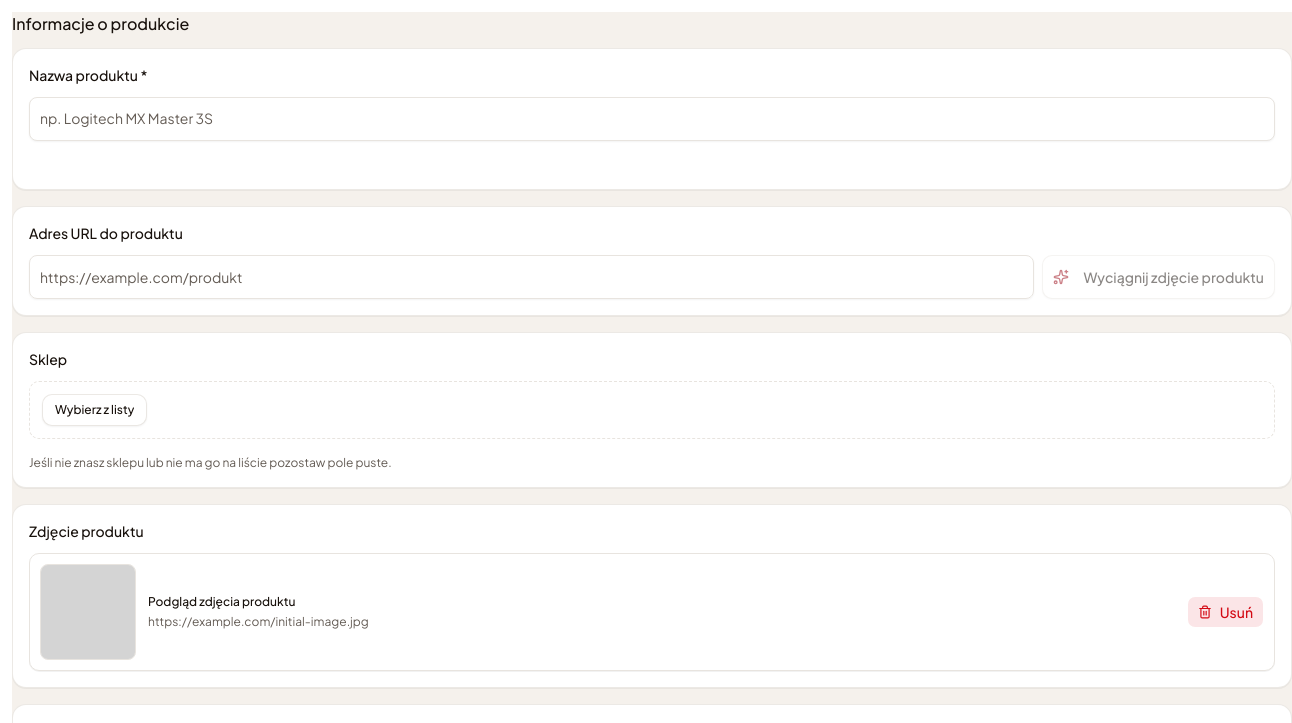
Test: app/opinie/dodaj/_components/ProductFields › allows removing the image via the 'Usuń' button in the preview
The image size is (1292, 723).
expect the field labelled "Adres URL zdjęcia" is not shown: met
expect the text "Podgląd zdjęcia produktu" is shown: met, box [148,594,295,609]
Step 1. Click the button "Usuń" → (1225, 612), box [1187,596,1264,628]
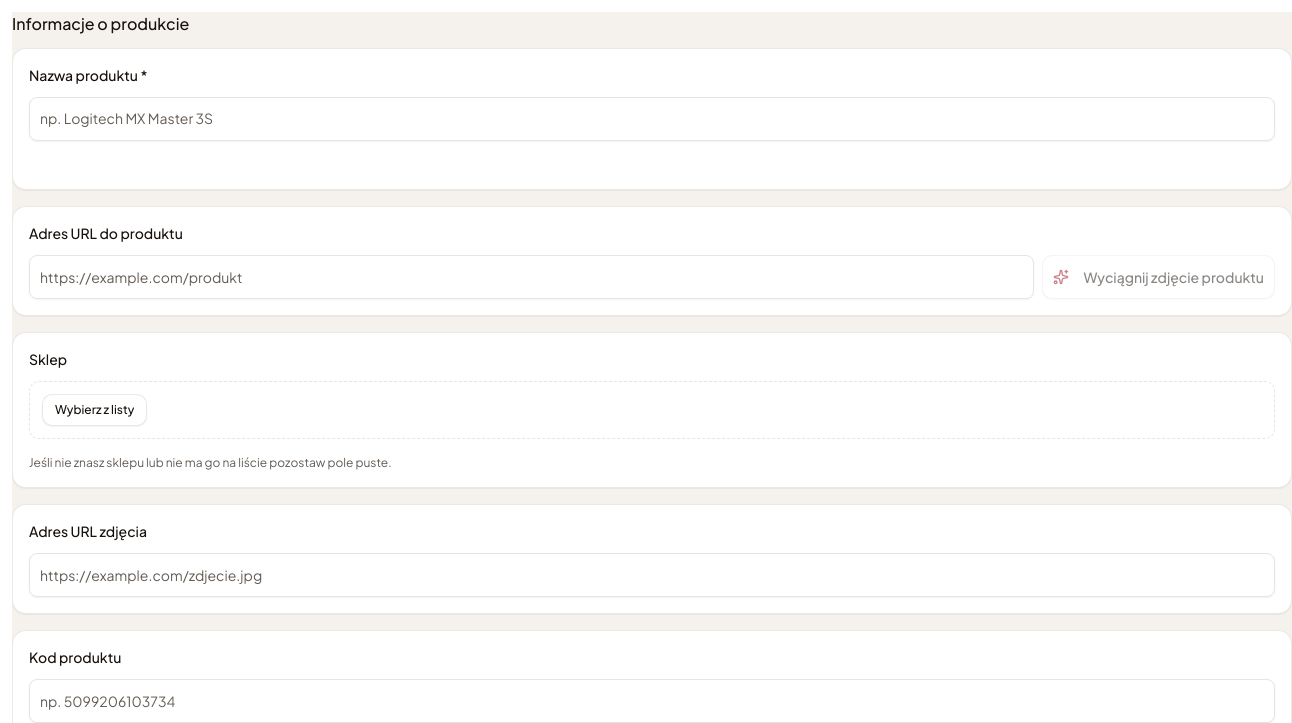
expect the field labelled "Adres URL zdjęcia" is empty: met, box [29,553,1275,597]
expect the text "Podgląd zdjęcia produktu" is gone: met
